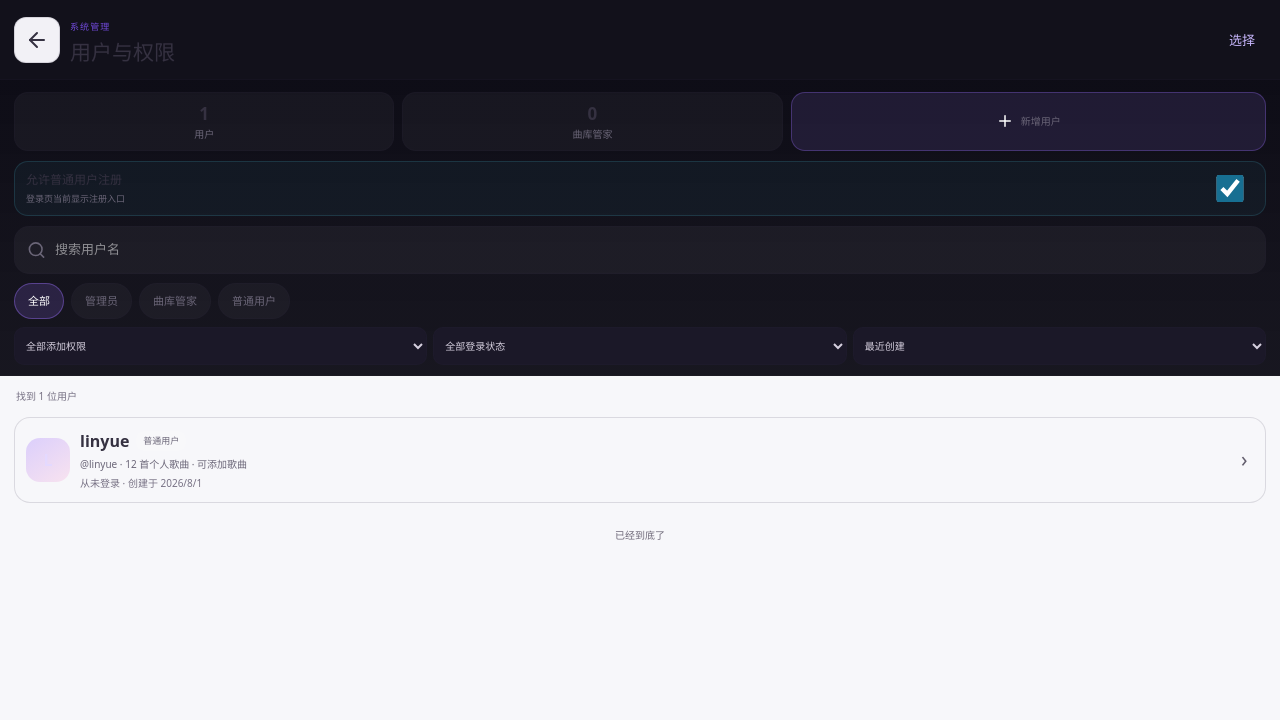
Test: 基础界面组件 › 独立用户管理页展示服务端统计并支持进入多选模式
Check: the text "linyue" is shown, box top-left (80, 429), bottom-right (129, 453)
Check: the checkbox labelled "允许普通用户注册" is shown, box top-left (1206, 175), bottom-right (1254, 202)
Click the button "选择". click: [1242, 40]
box: top-left (1218, 18), bottom-right (1266, 62)
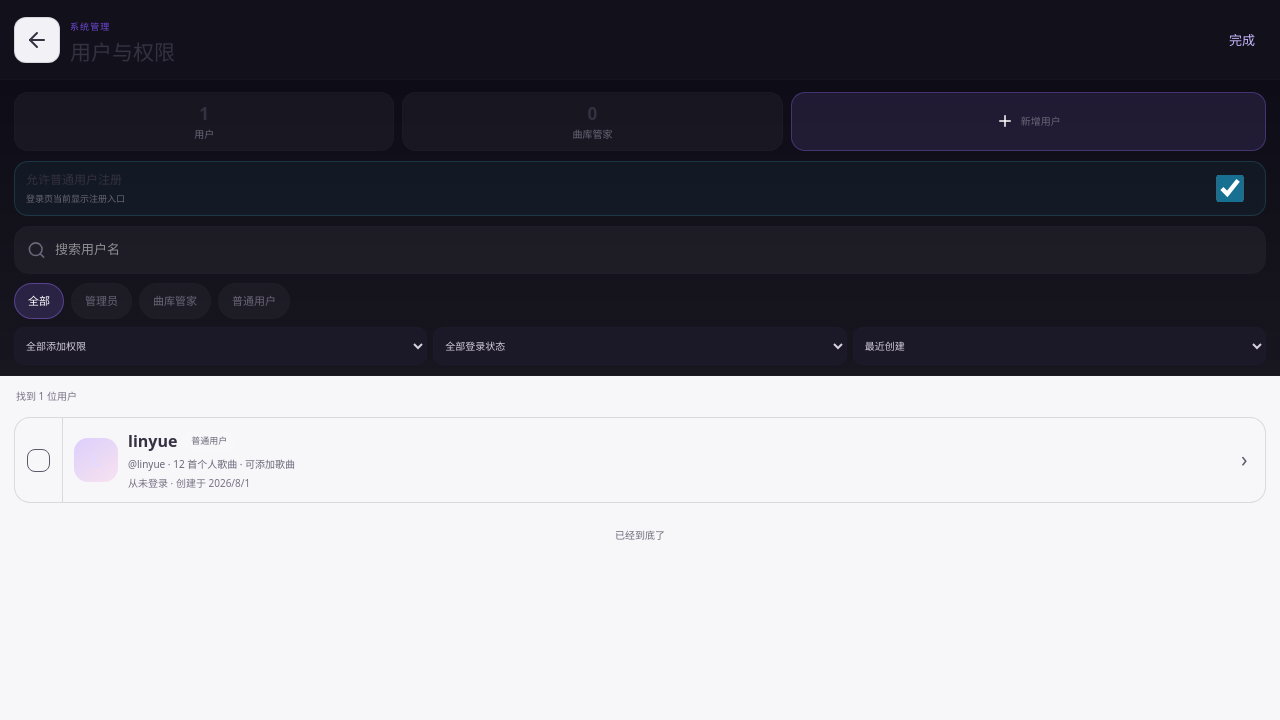
Click the button named "选择linyue". click: [39, 460]
box: top-left (15, 418), bottom-right (63, 502)
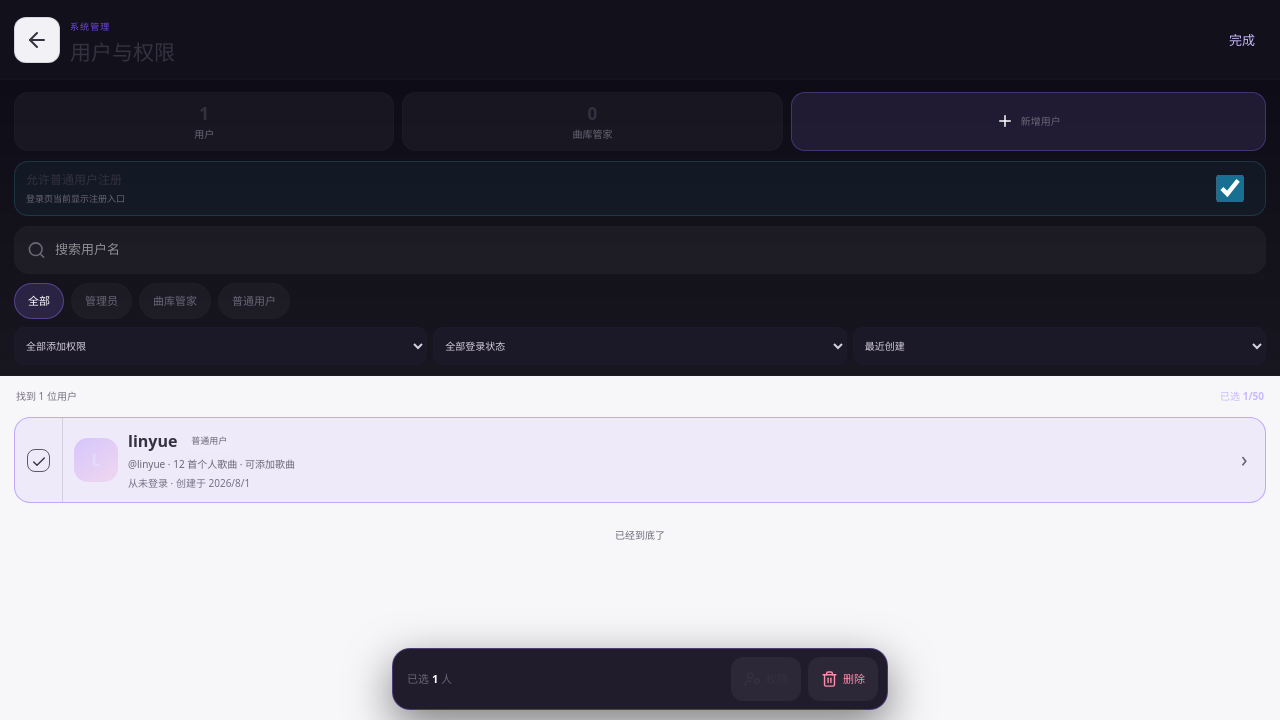
Check: the text "已选 1/50" is shown, box top-left (1220, 389), bottom-right (1264, 404)
Check: the button "删除" is shown, box top-left (808, 657), bottom-right (878, 701)
